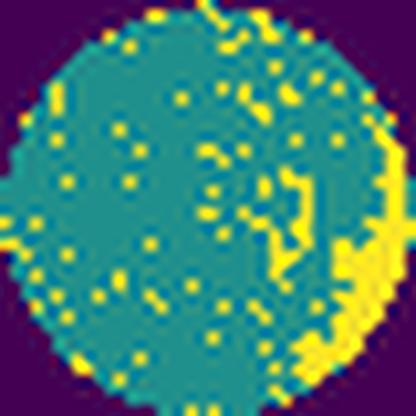Edge-Loc: (286, 119, 415, 386)
